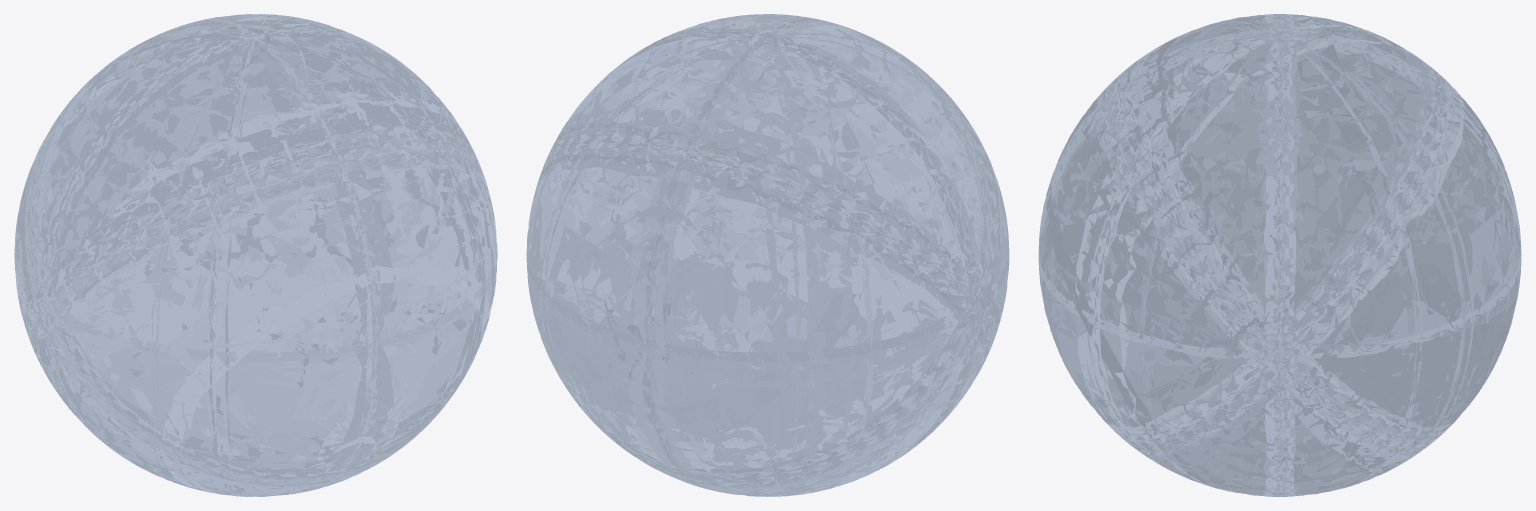
File: structure.glb
The picture shows the model from 3 angles, left to right: view 1: azimuth 30°, elevation 25°; view 2: azimuth 150°, elevation 25°; view 3: azimuth 270°, elevation 25°; orthographic projection.
Parts seen in each view (by area): view 1: structure; view 2: structure; view 3: structure.
Boxes of the visible parts, box(x1,y1,x2,y2) form: structure: box(14, 14, 497, 496); structure: box(526, 14, 1009, 496); structure: box(1038, 14, 1521, 496).
Size of the model in its own units: 2 by 2 by 2.
